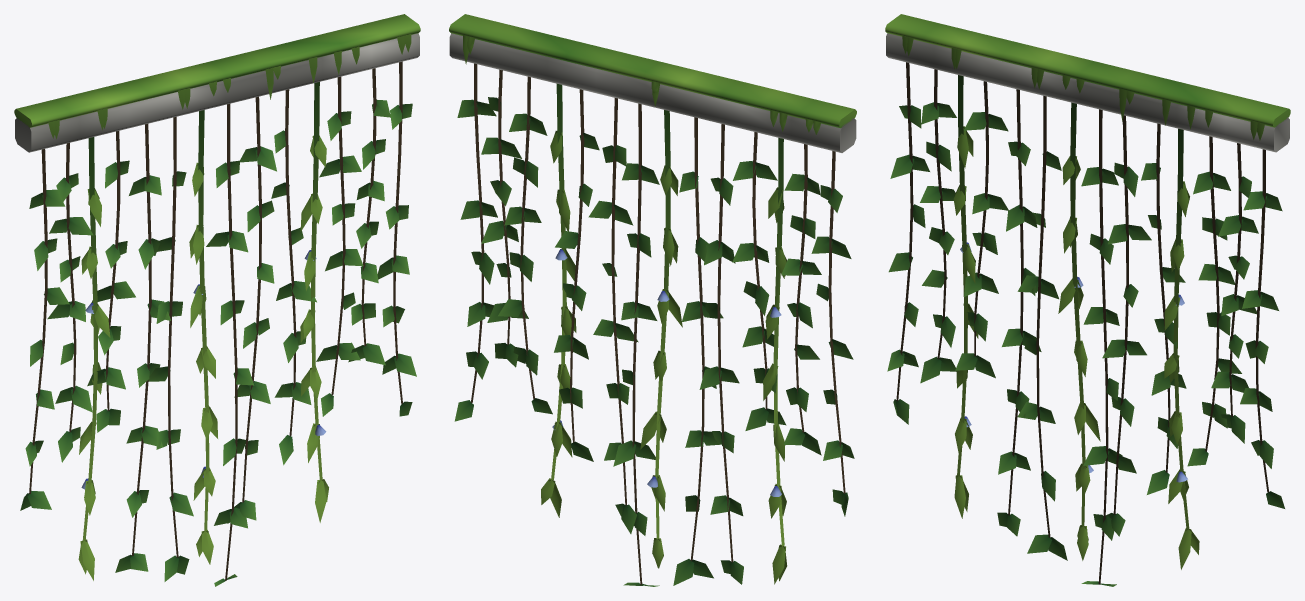
The model's file is curtain_mountain.glb.
The picture shows the model from 3 angles, left to right: view 1: azimuth 30°, elevation 25°; view 2: azimuth 150°, elevation 25°; view 3: azimuth 330°, elevation 25°; orthographic projection.
Parts seen in each view (by area): view 1: curtain_mountain; view 2: curtain_mountain; view 3: curtain_mountain.
Part boxes in pixels (bbox=[...]): curtain_mountain: bbox=[14, 14, 420, 586]; curtain_mountain: bbox=[449, 14, 856, 586]; curtain_mountain: bbox=[885, 14, 1290, 586].
Bounding box in the file's own units: 3.3 × 4.2 × 0.2835.
